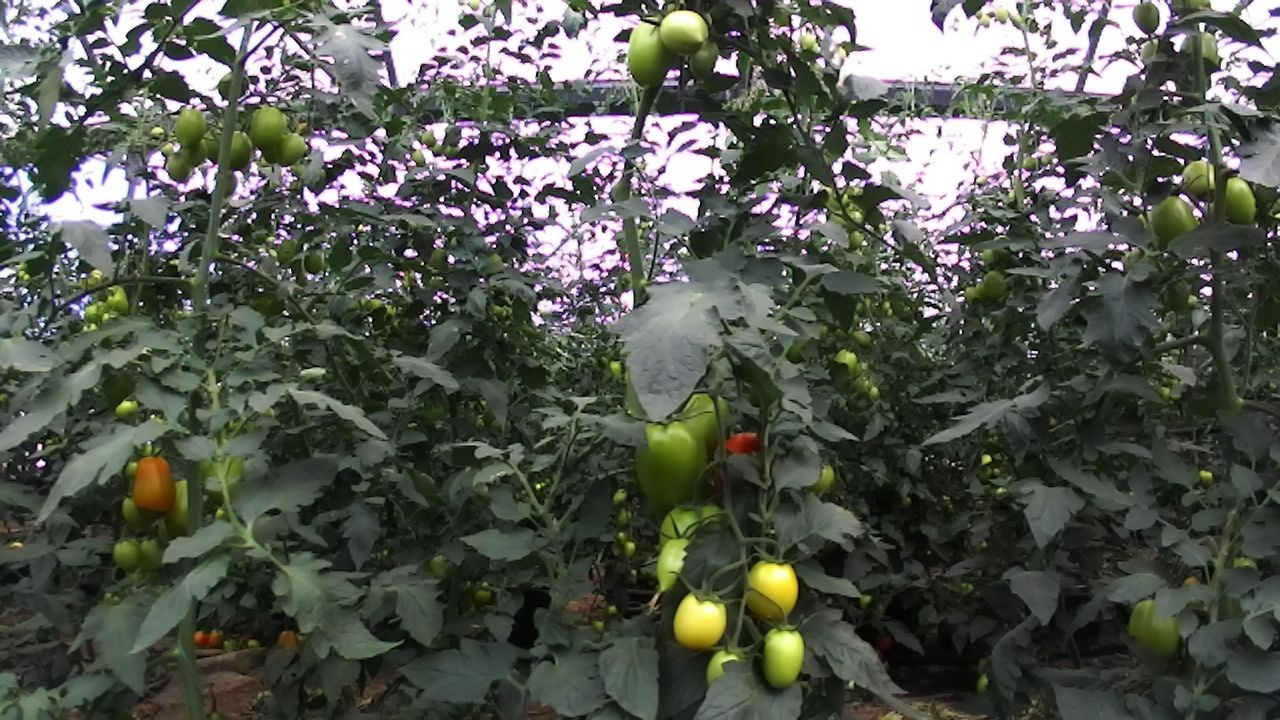tomato: (622, 410, 711, 518), (651, 497, 736, 577), (1118, 588, 1192, 667), (667, 582, 742, 658), (621, 10, 683, 98), (739, 550, 805, 631), (1140, 188, 1210, 254), (756, 619, 813, 694), (128, 449, 180, 523), (655, 5, 721, 63), (160, 474, 209, 545), (1211, 170, 1264, 231), (647, 533, 698, 595), (1174, 152, 1228, 205), (1176, 26, 1226, 82), (246, 102, 287, 153), (272, 126, 314, 173), (114, 489, 157, 534), (168, 102, 210, 148), (1125, 0, 1165, 42), (222, 125, 255, 172), (108, 535, 147, 573), (686, 39, 718, 83), (135, 536, 170, 574), (160, 151, 195, 185), (178, 135, 210, 169), (109, 393, 141, 427), (831, 343, 860, 380), (980, 268, 1009, 298), (301, 247, 327, 276), (105, 290, 134, 314), (798, 31, 816, 53)
